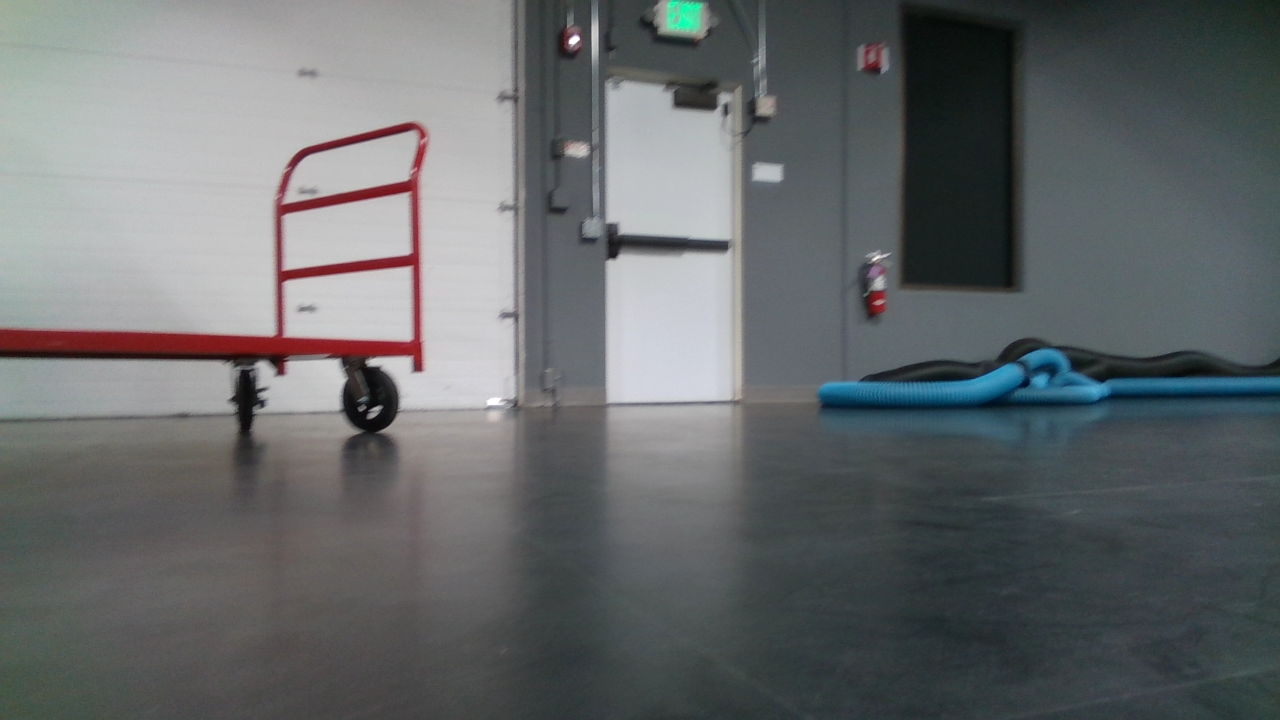Dolly: (0, 101, 449, 440)
Wheel: (341, 358, 399, 437), (226, 364, 268, 434)
